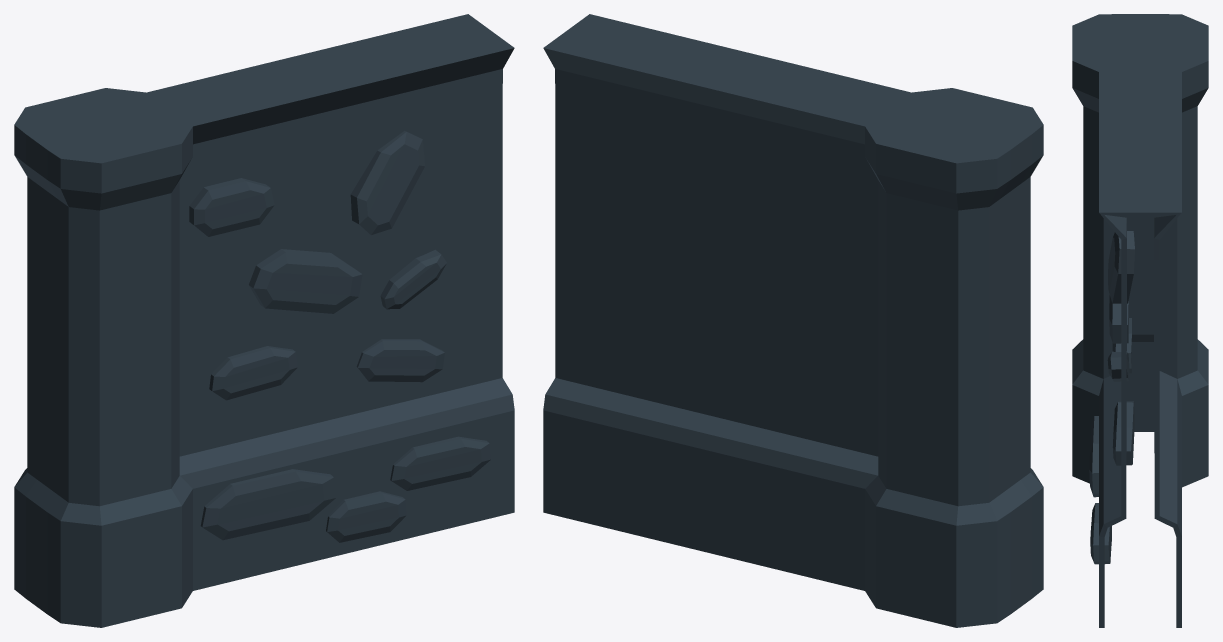
The model's file is Dungeon_Wall_A.fbx.
The picture shows the model from 3 angles, left to right: view 1: azimuth 30°, elevation 25°; view 2: azimuth 150°, elevation 25°; view 3: azimuth 270°, elevation 25°; orthographic projection. The views are drawn at different scales.
Parts seen in each view (by area): view 1: Wall.1; view 2: Wall.1; view 3: Wall.1.
Part boxes in pixels (left/top/right/bottom): Wall.1: left=14, top=14, right=514, bottom=627; Wall.1: left=543, top=14, right=1043, bottom=627; Wall.1: left=1072, top=14, right=1208, bottom=627.
Bounding box in the file's own units: 4.11 × 4 × 1.19.
